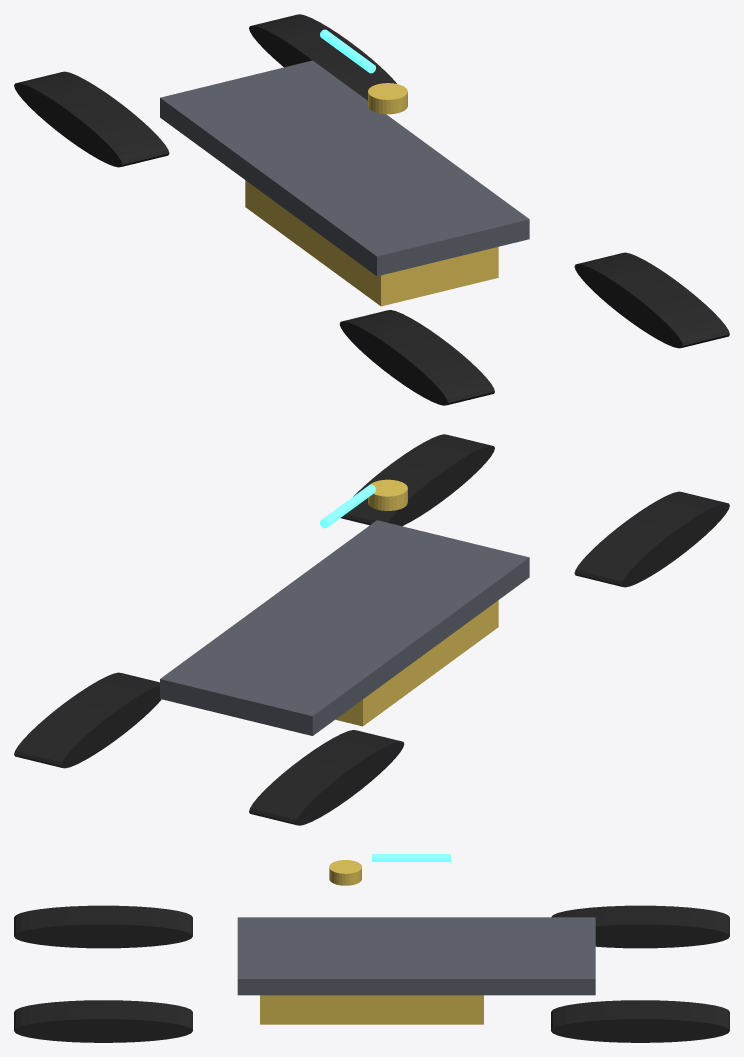
File: CO_KazekiriCorvette_LOD1.glb
3 renders of one model, top to bottom at view 1: azimuth 30°, elevation 25°; view 2: azimuth 150°, elevation 25°; view 3: azimuth 270°, elevation 25°, orthographic. The views are drawn at different scales.
Parts seen in each view (by area): view 1: Cube.001, Cylinder, Cylinder.001, Cylinder.002, Cube, Cylinder.003, Cylinder.004, Cylinder.005; view 2: Cube.001, Cylinder.001, Cylinder, Cylinder.003, Cylinder.002, Cube, Cylinder.004, Cylinder.005; view 3: Cube.001, Cylinder, Cylinder.002, Cylinder.003, Cube, Cylinder.001, Cylinder.004, Cylinder.005.
Boxes of the visible parts, x1=… form: Cube.001: x1=160, y1=60, x2=529, y2=276; Cylinder: x1=339, y1=310, x2=494, y2=405; Cylinder.001: x1=14, y1=71, x2=169, y2=167; Cylinder.002: x1=574, y1=252, x2=729, y2=348; Cube: x1=245, y1=180, x2=498, y2=306; Cylinder.003: x1=249, y1=14, x2=396, y2=100; Cylinder.004: x1=368, y1=83, x2=407, y2=114; Cylinder.005: x1=320, y1=29, x2=375, y2=73; Cube.001: x1=160, y1=520, x2=529, y2=735; Cylinder.001: x1=249, y1=730, x2=404, y2=825; Cylinder: x1=574, y1=491, x2=729, y2=587; Cylinder.003: x1=14, y1=672, x2=161, y2=768; Cylinder.002: x1=341, y1=434, x2=494, y2=526; Cube: x1=335, y1=600, x2=498, y2=726; Cylinder.004: x1=368, y1=479, x2=407, y2=510; Cylinder.005: x1=320, y1=484, x2=375, y2=528; Cube.001: x1=237, y1=917, x2=595, y2=995; Cylinder: x1=14, y1=905, x2=192, y2=948; Cylinder.002: x1=14, y1=1000, x2=192, y2=1042; Cylinder.003: x1=551, y1=1000, x2=729, y2=1042; Cube: x1=260, y1=995, x2=483, y2=1024; Cylinder.001: x1=551, y1=905, x2=729, y2=948; Cylinder.004: x1=329, y1=860, x2=361, y2=885; Cylinder.005: x1=372, y1=854, x2=450, y2=861.
Size of what is drawn, in the model's own units: 4.08 by 2.46 by 10.88.
